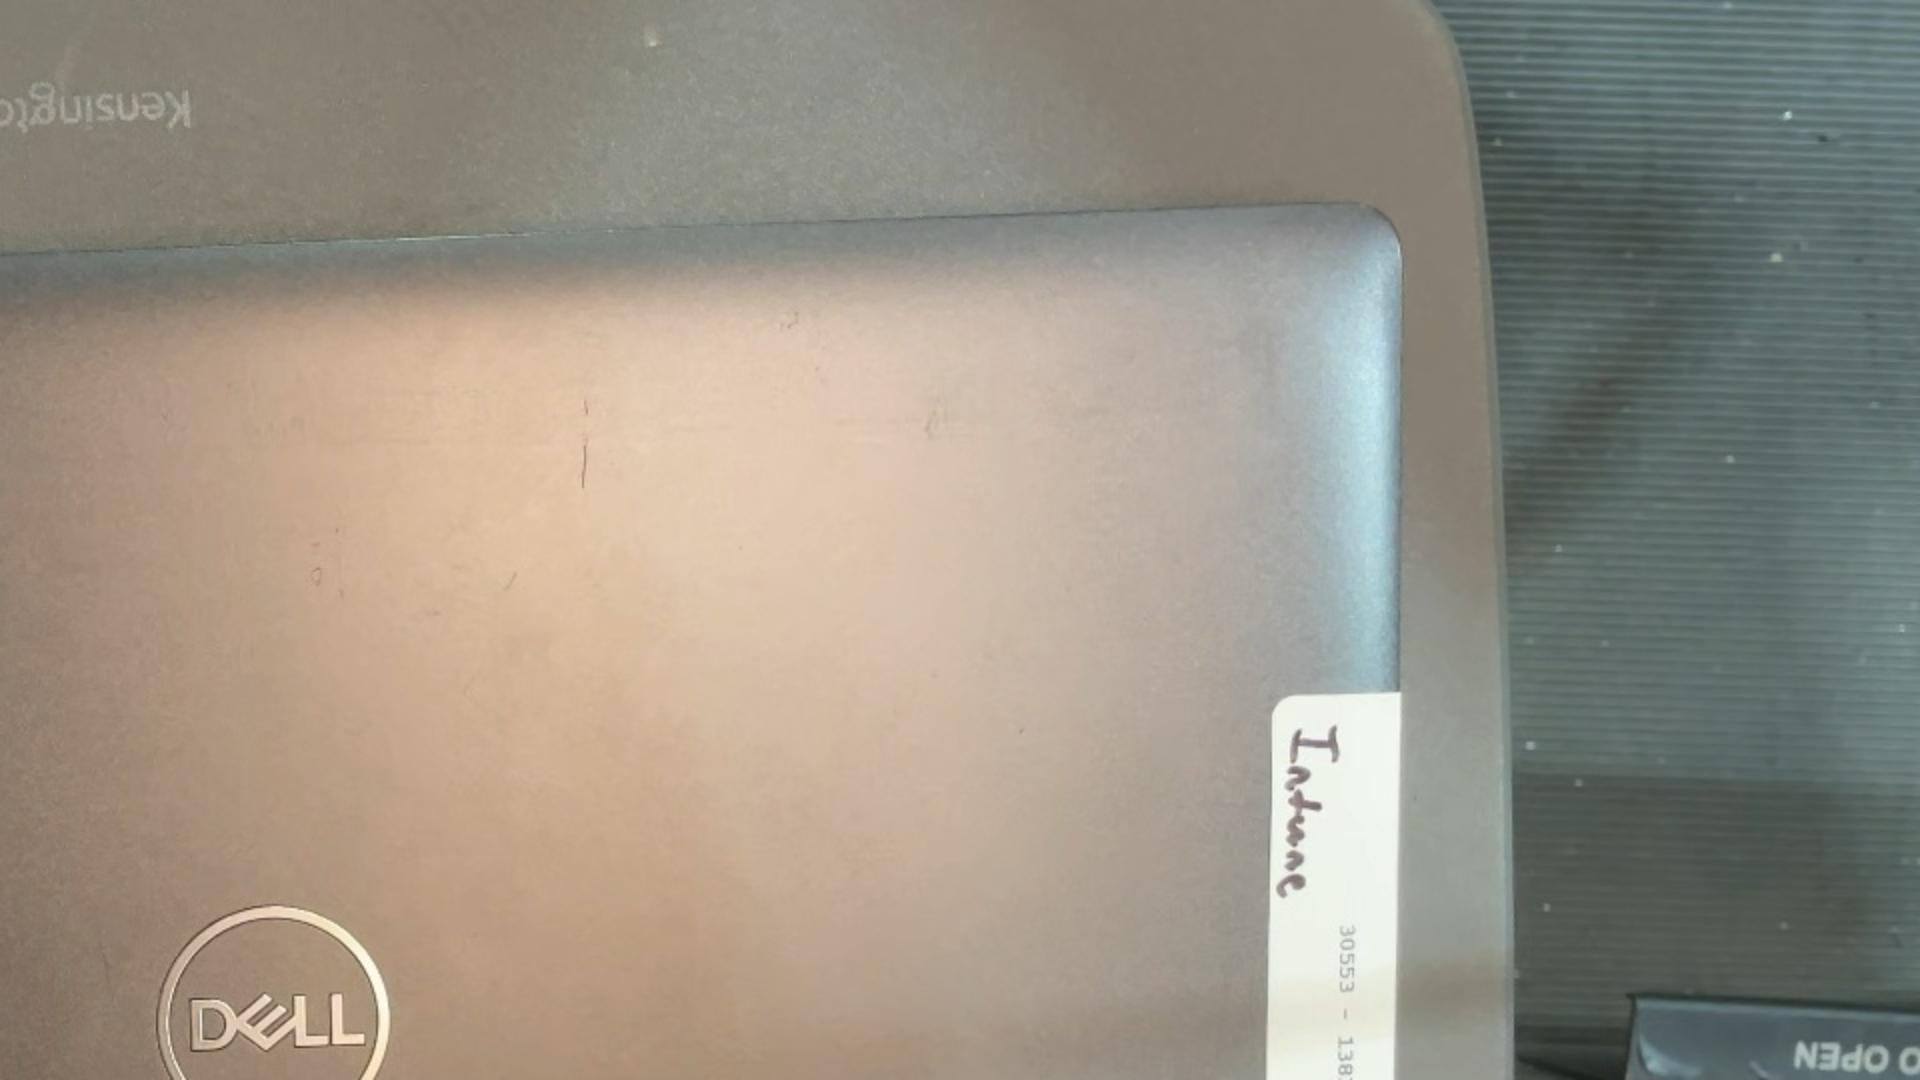scratches: (579, 397, 591, 489), (501, 570, 519, 592)
